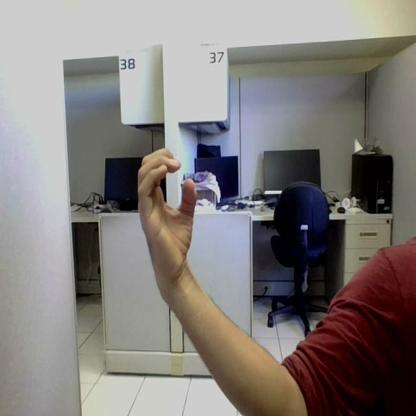C: (138, 148, 196, 279)
